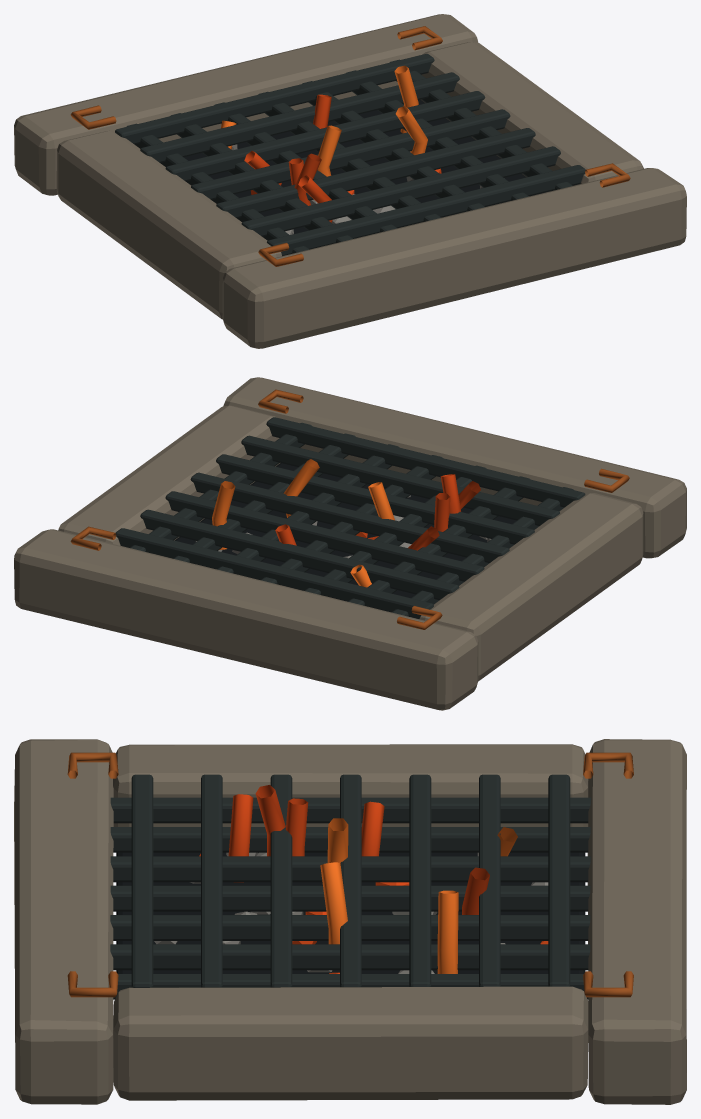
Rendered from fire_grate_floor_LOD0.glb.
3 renders of one model, top to bottom at view 1: azimuth 30°, elevation 25°; view 2: azimuth 150°, elevation 25°; view 3: azimuth 270°, elevation 25°, orthographic. The views are drawn at different scales.
Visible parts, largest first — view 1: FireGrateKerbSouth, FireGrateKerbWest, FireGrateKerbNorth, FireGrateKerbEast, FireGrateIntactBarY.001, FireGrateIntactBarY, FireGrateIntactBarY.006, FireGrateIntactBarY.002, FireGrateIntactBarY.005, FireGrateIntactBarY.004, FireGrateIntactBarY.003, FireGrateCoalBed (+15 smaller); view 2: FireGrateKerbNorth, FireGrateKerbWest, FireGrateKerbSouth, FireGrateKerbEast, FireGrateIntactBarY, FireGrateIntactBarY.005, FireGrateIntactBarY.006, FireGrateIntactBarY.004, FireGrateIntactBarY.003, FireGrateIntactBarY.001, FireGrateIntactBarY.002, FireGrateCoalBed (+15 smaller); view 3: FireGrateKerbEast, FireGrateKerbSouth, FireGrateKerbNorth, FireGrateKerbWest, FireGrateIntactBarX.005, FireGrateIntactBarX.002, FireGrateIntactBarX.004, FireGrateIntactBarX.003, FireGrateIntactBarX, FireGrateIntactBarX.001, FireGrateIntactBarY, FireGrateIntactBarY.004 (+19 smaller).
Boxes of the visible parts, x1=… form: FireGrateKerbSouth: x1=222, y1=168, x2=686, y2=348; FireGrateKerbWest: x1=56, y1=130, x2=281, y2=319; FireGrateKerbNorth: x1=14, y1=14, x2=478, y2=195; FireGrateKerbEast: x1=420, y1=42, x2=643, y2=185; FireGrateIntactBarY.001: x1=241, y1=146, x2=560, y2=236; FireGrateIntactBarY: x1=267, y1=165, x2=585, y2=255; FireGrateIntactBarY.006: x1=115, y1=54, x2=434, y2=144; FireGrateIntactBarY.002: x1=216, y1=128, x2=535, y2=218; FireGrateIntactBarY.005: x1=140, y1=72, x2=459, y2=162; FireGrateIntactBarY.004: x1=165, y1=91, x2=485, y2=181; FireGrateIntactBarY.003: x1=191, y1=109, x2=510, y2=199; FireGrateCoalBed: x1=184, y1=99, x2=544, y2=233; FireGrateKerbNorth: x1=14, y1=529, x2=478, y2=710; FireGrateKerbWest: x1=419, y1=493, x2=643, y2=681; FireGrateKerbSouth: x1=223, y1=377, x2=686, y2=558; FireGrateKerbEast: x1=58, y1=405, x2=279, y2=545; FireGrateIntactBarY: x1=266, y1=417, x2=585, y2=507; FireGrateIntactBarY.005: x1=140, y1=509, x2=459, y2=600; FireGrateIntactBarY.006: x1=115, y1=528, x2=433, y2=618; FireGrateIntactBarY.004: x1=165, y1=491, x2=484, y2=581; FireGrateIntactBarY.003: x1=190, y1=472, x2=509, y2=562; FireGrateIntactBarY.001: x1=241, y1=435, x2=559, y2=525; FireGrateIntactBarY.002: x1=216, y1=454, x2=534, y2=544; FireGrateCoalBed: x1=175, y1=463, x2=516, y2=598; FireGrateKerbEast: x1=113, y1=986, x2=588, y2=1100; FireGrateKerbSouth: x1=14, y1=739, x2=113, y2=1104; FireGrateKerbNorth: x1=587, y1=739, x2=686, y2=1104; FireGrateKerbWest: x1=113, y1=744, x2=588, y2=826; FireGrateIntactBarX.005: x1=110, y1=944, x2=590, y2=970; FireGrateIntactBarX.002: x1=110, y1=856, x2=590, y2=882; FireGrateIntactBarX.004: x1=110, y1=915, x2=590, y2=940; FireGrateIntactBarX.003: x1=110, y1=885, x2=590, y2=911; FireGrateIntactBarX: x1=110, y1=797, x2=590, y2=823; FireGrateIntactBarX.001: x1=110, y1=827, x2=590, y2=852; FireGrateIntactBarY: x1=131, y1=774, x2=153, y2=987; FireGrateIntactBarY.004: x1=409, y1=774, x2=431, y2=986.
Size of the model in its own units: 2.41 by 0.5232 by 2.32.
